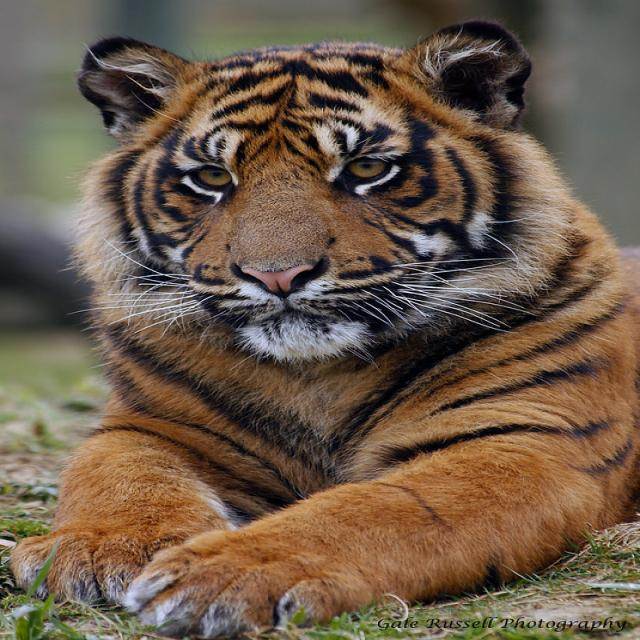Tiger: (14, 34, 639, 634)
